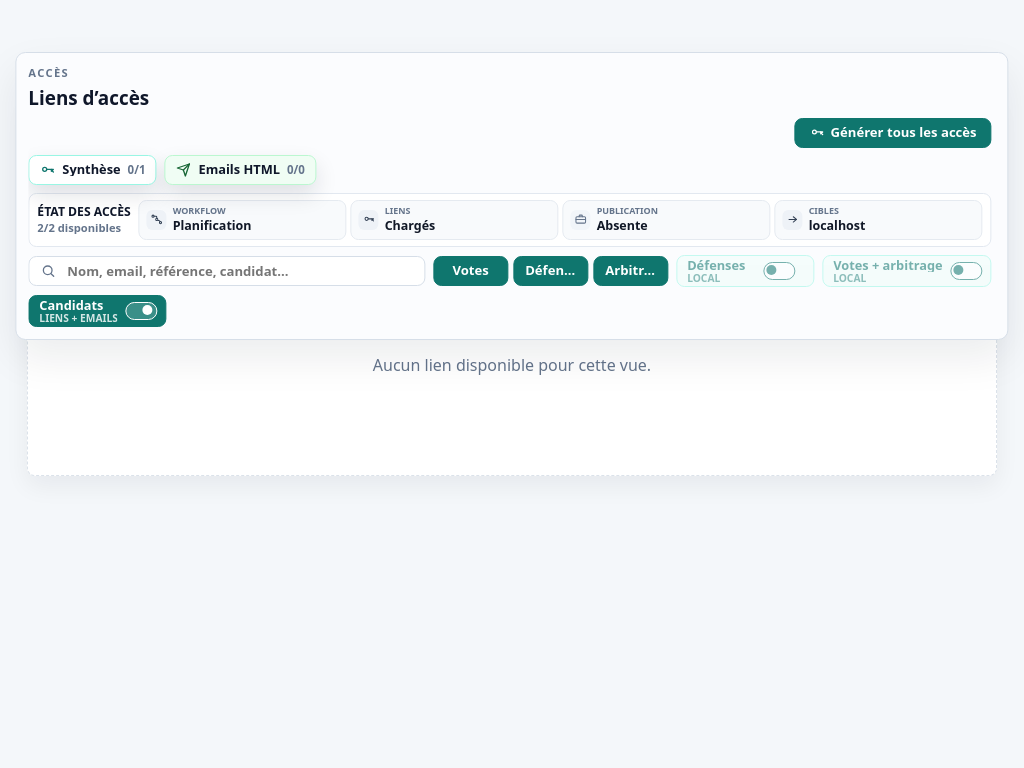
it: GenToken generation command › affiche les ouvertures récentes des liens d’accès dans la synthèse
Click the button with aria-label "ouvrir la synthèse des accès". click: x=92, y=170
box: [28,155,156,185]
(page scrolled)
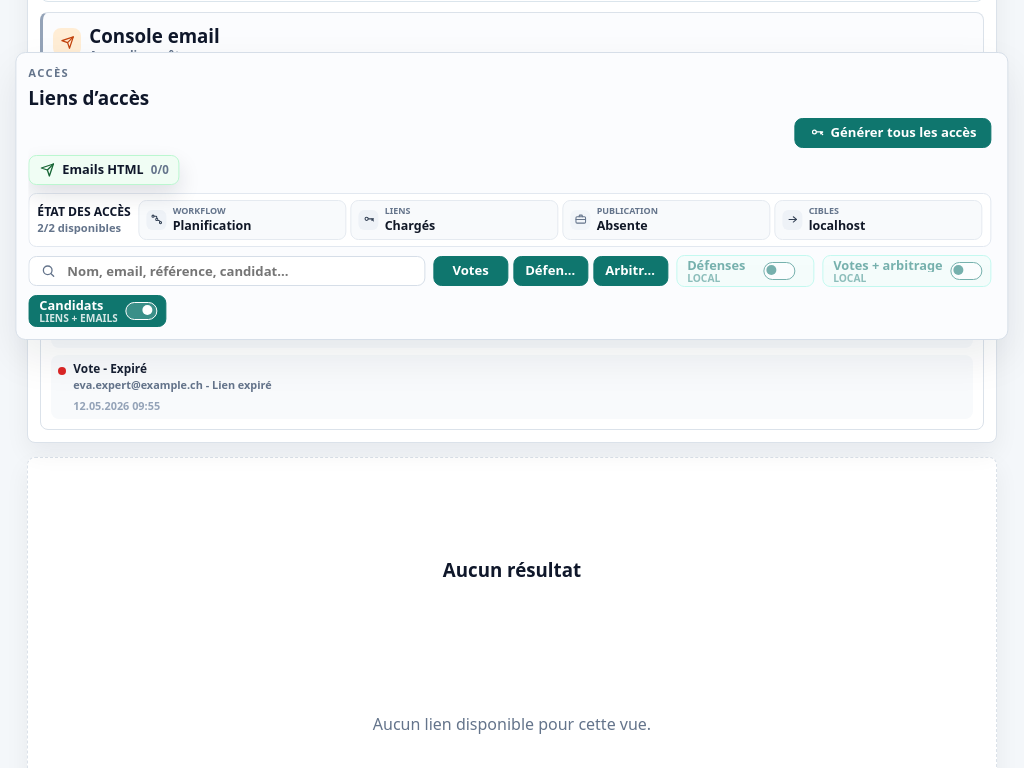
Expected: the heading "Ouvertures" is shown, [87,244,158,261]
Result: the text "Vote - Expiré" is shown at [73,360,147,376]
Result: the text "eva.expert@example.ch - Lien expiré" is shown at [73,377,272,392]
